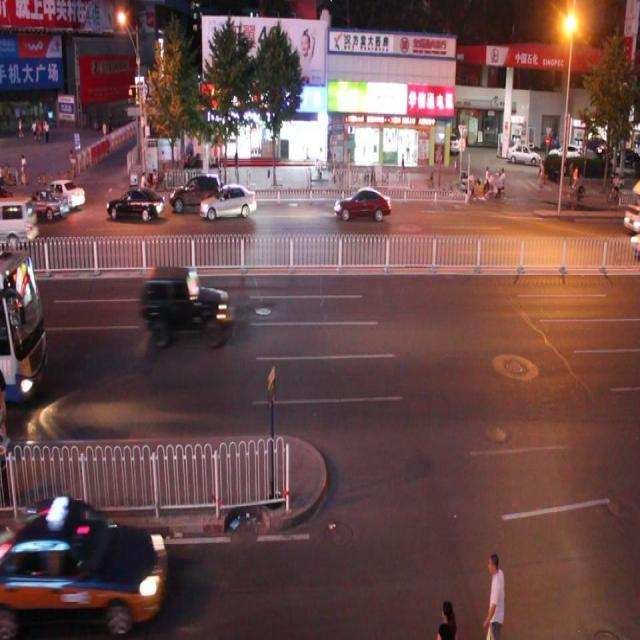car: (1, 494, 163, 632), (141, 262, 232, 346), (170, 170, 223, 213), (332, 185, 392, 222), (199, 184, 256, 220), (106, 187, 164, 222), (18, 186, 69, 223), (44, 178, 86, 208)
truck: (1, 193, 37, 246)
van: (1, 250, 48, 403)
